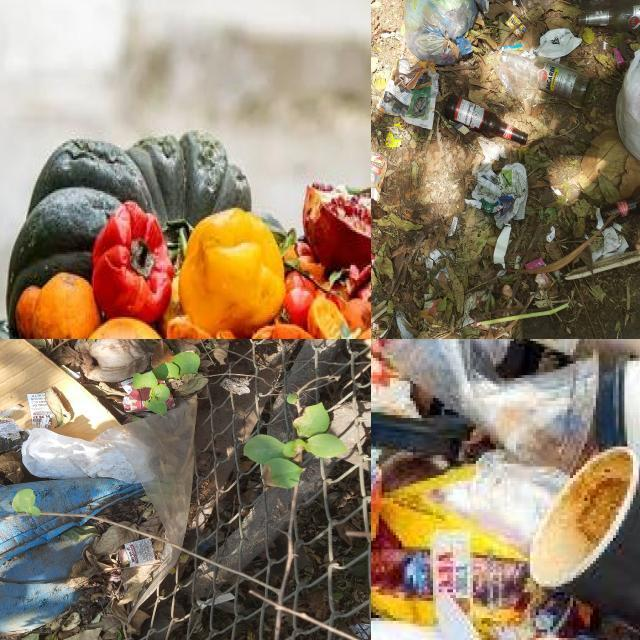Cig_pack: (371, 153, 387, 201)
Garbage: (371, 0, 640, 339), (371, 339, 640, 640), (0, 131, 371, 339), (0, 339, 229, 640)
Glass_bottle: (501, 53, 590, 106), (445, 95, 528, 145), (576, 0, 640, 31), (600, 186, 640, 218)
Mask: (395, 310, 411, 339)
Plastic: (394, 339, 597, 552)
Plastic_Bag: (0, 478, 142, 633), (96, 400, 198, 609), (21, 428, 140, 483), (404, 0, 478, 64), (616, 51, 640, 160), (495, 62, 537, 101), (535, 28, 582, 60)
Plastic_wraper: (119, 379, 150, 413), (125, 538, 156, 567), (505, 14, 527, 37), (0, 418, 23, 439), (30, 411, 53, 426), (385, 131, 401, 147), (525, 259, 546, 270), (165, 395, 177, 410), (371, 253, 375, 266), (157, 379, 167, 384), (394, 122, 401, 128), (443, 33, 445, 35), (420, 28, 421, 31), (436, 12, 437, 14)
